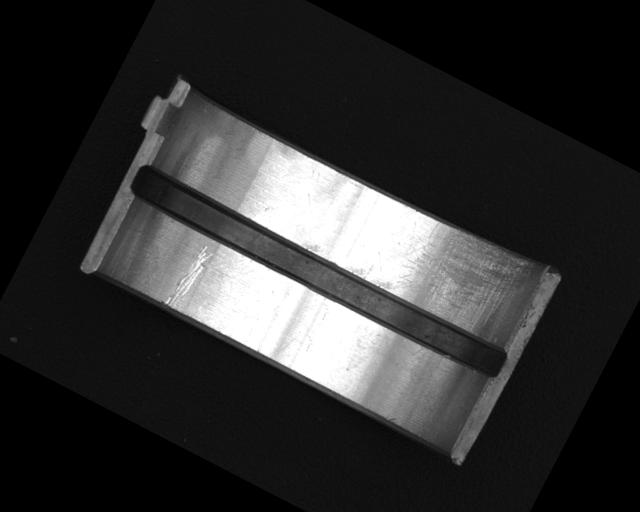gap: (125, 158, 512, 383)
nick: (161, 238, 217, 315)
scratch: (375, 201, 537, 346)
